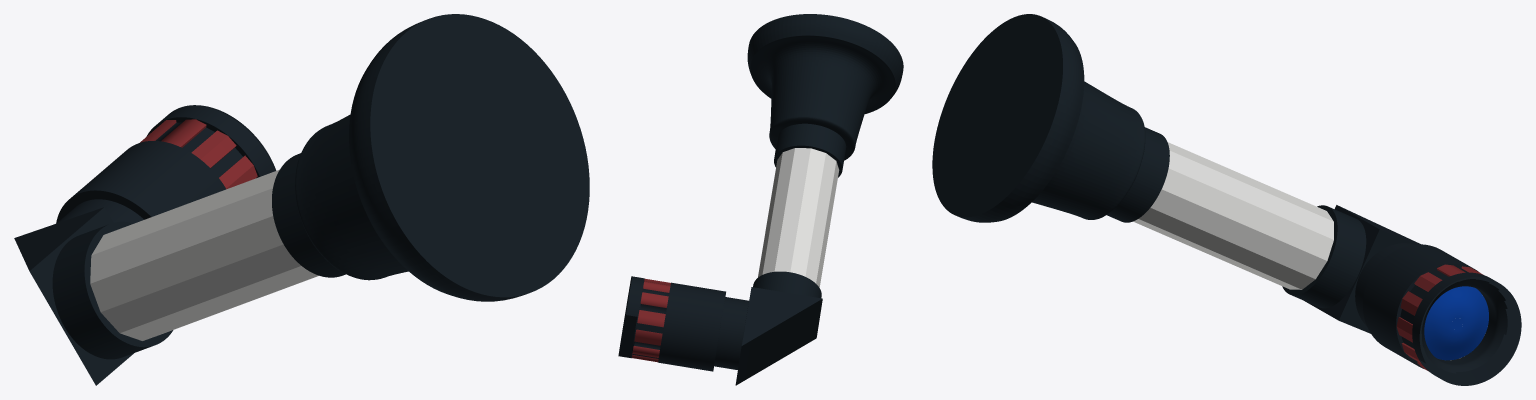
Rendered from telescope_5_finder.fbx.
3 views of the same model, side by side, from view 1: azimuth 30°, elevation 25°; view 2: azimuth 150°, elevation 25°; view 3: azimuth 270°, elevation 25° (orthographic). The views are drawn at different scales.
Parts seen in each view (by area): view 1: 5_finder; view 2: 5_finder; view 3: 5_finder.
Boxes of the visible parts, x1,y1,x2,y2 form: 5_finder: [14, 14, 589, 385]; 5_finder: [618, 14, 903, 385]; 5_finder: [932, 14, 1521, 385].
Bounding box in the file's own units: 45.11 × 61.6 × 90.48.
